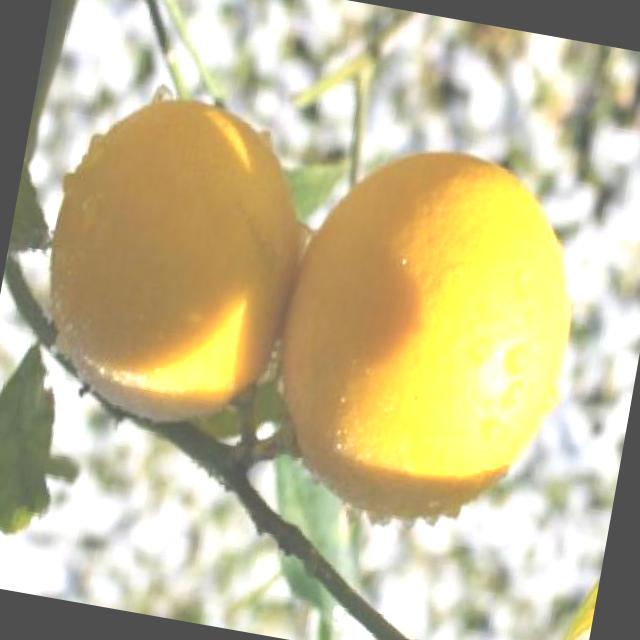Orange: (250, 126, 600, 554), (15, 77, 326, 444)
